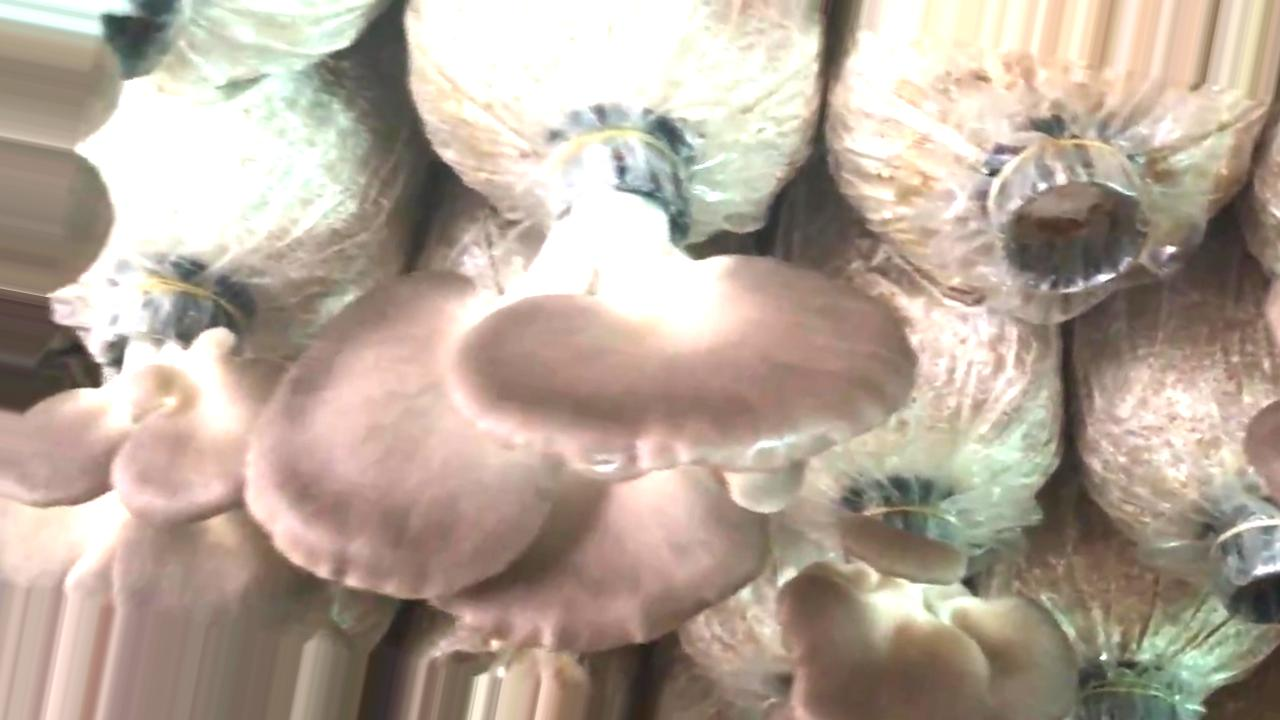nam: (250, 127, 914, 653), (4, 281, 332, 720), (779, 508, 1075, 720), (1, 29, 120, 294)
